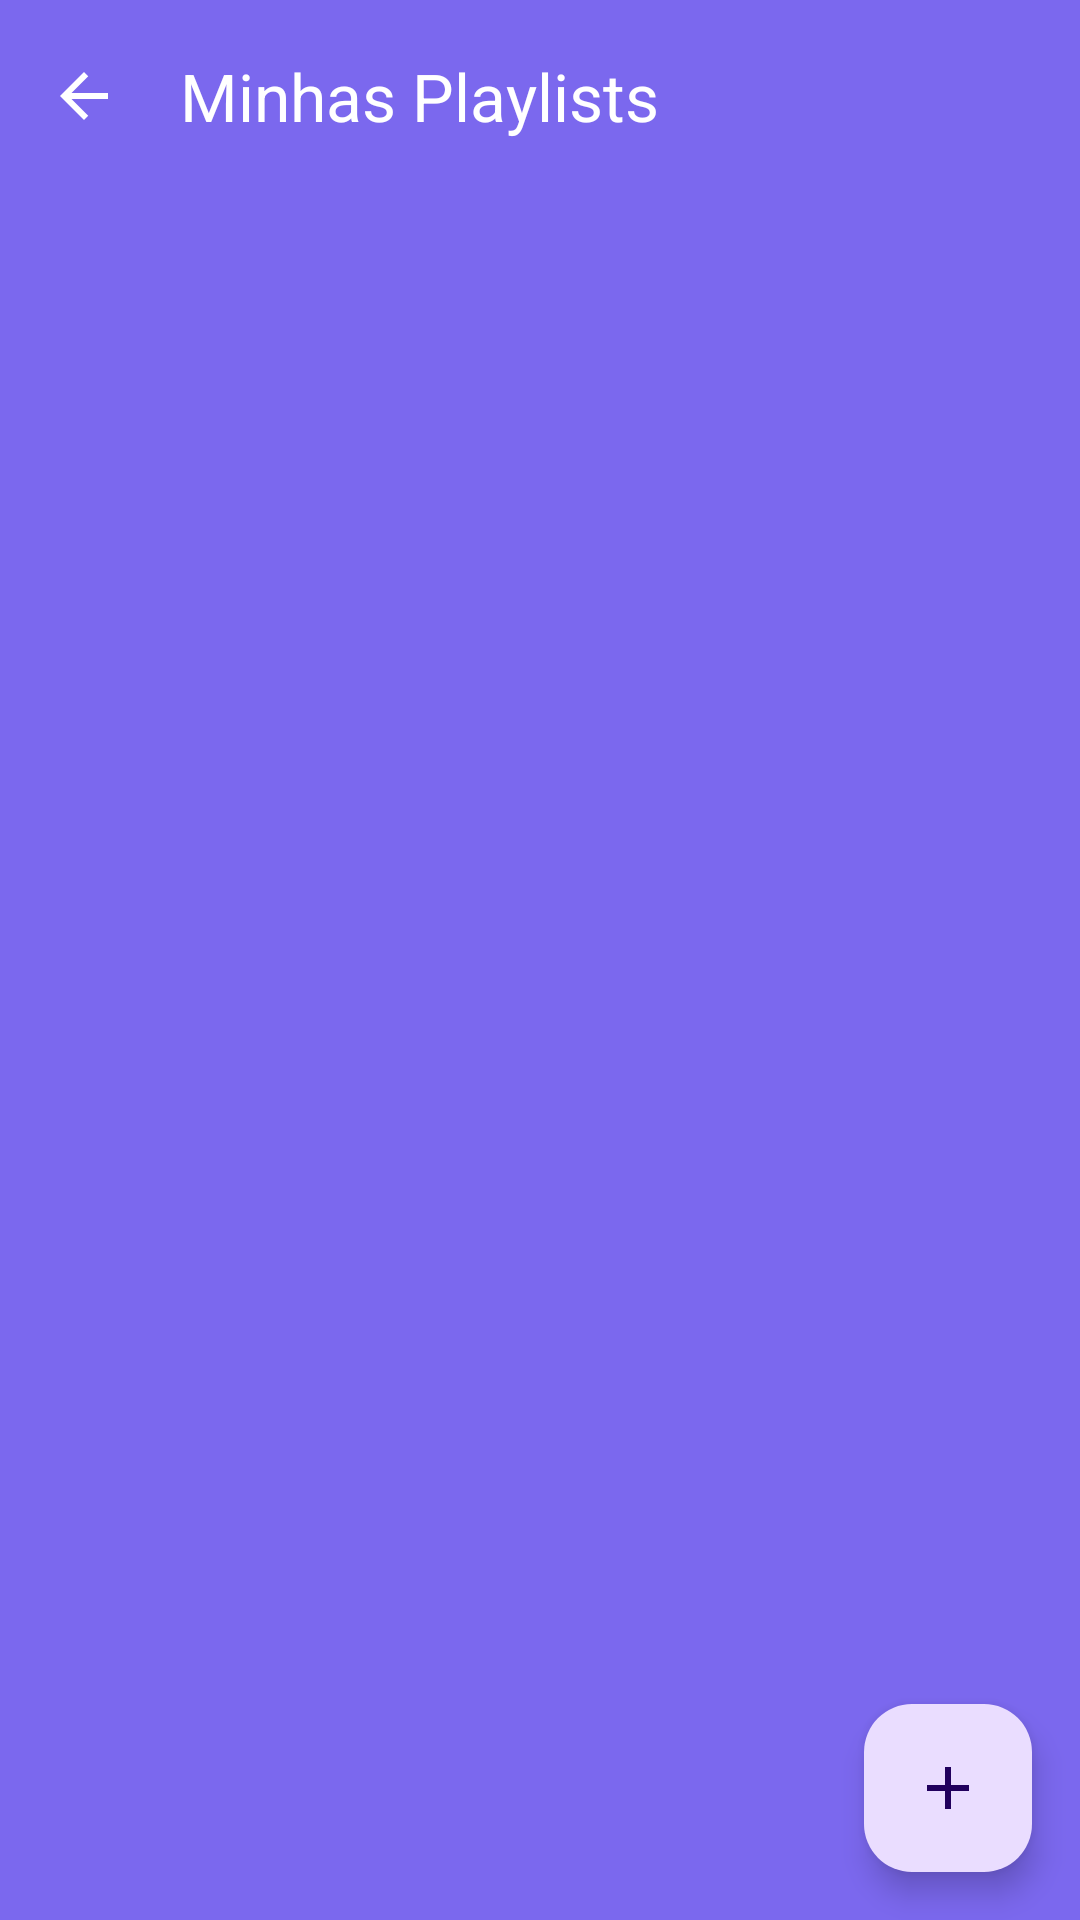

Named icons in this screenshot (1080px x 1920px) and their bounding boxes, (x1, y1, x2, y2):
Criar nova playlist: (864, 1704, 1032, 1872)
